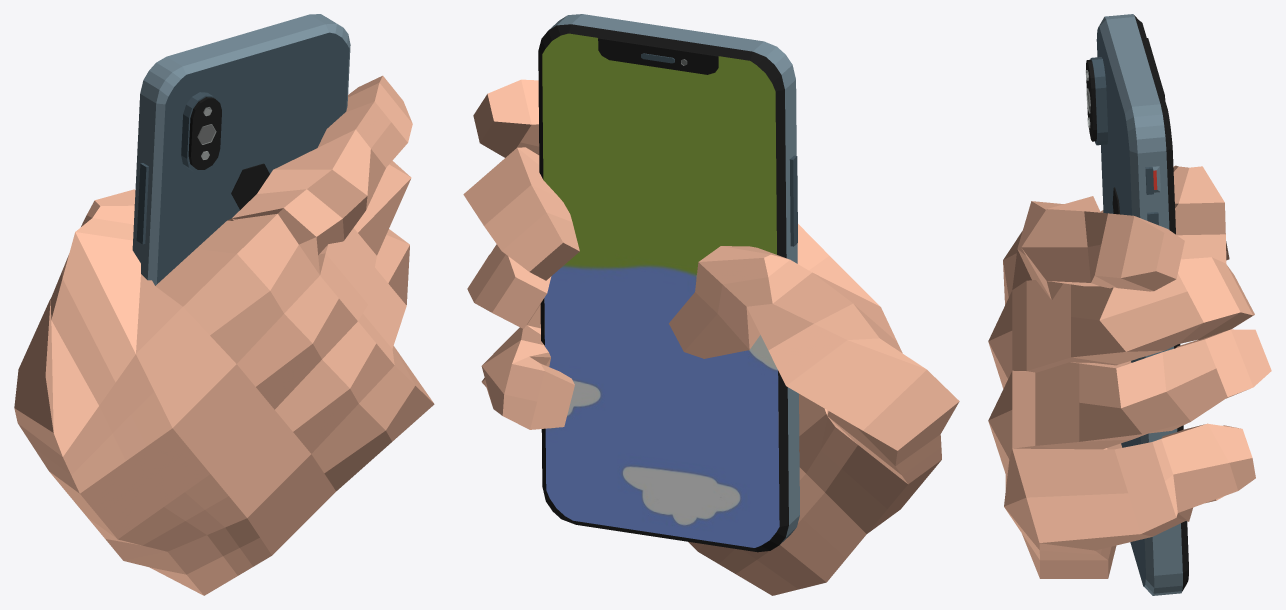
The model's file is HandPhone.gltf.
3 views of the same model, side by side, from view 1: azimuth 30°, elevation 25°; view 2: azimuth 150°, elevation 25°; view 3: azimuth 270°, elevation 25° (orthographic). The views are drawn at different scales.
Visible parts, largest first — view 1: Cube, group817659832, group40103501, group1638188736, group465359774, group1637273763; view 2: group817659832, Cube, group660411554, group1637273763; view 3: Cube, group817659832, group465359774, group40103501.
Part boxes in pixels (x1,y1,x2,y2): Cube: (14, 75, 434, 595); group817659832: (132, 14, 350, 285); group40103501: (188, 97, 221, 169); group1638188736: (231, 163, 269, 209); group465359774: (181, 92, 218, 172); group1637273763: (136, 163, 148, 244); group817659832: (538, 14, 799, 552); Cube: (463, 79, 959, 595); group660411554: (598, 38, 718, 74); group1637273763: (789, 155, 797, 246); Cube: (988, 165, 1271, 578); group817659832: (1096, 14, 1188, 595); group465359774: (1090, 57, 1107, 145); group40103501: (1086, 59, 1096, 141).
Size of the model in its own units: 3.12 by 3.79 by 1.76.
10 materials, 1 textured.
